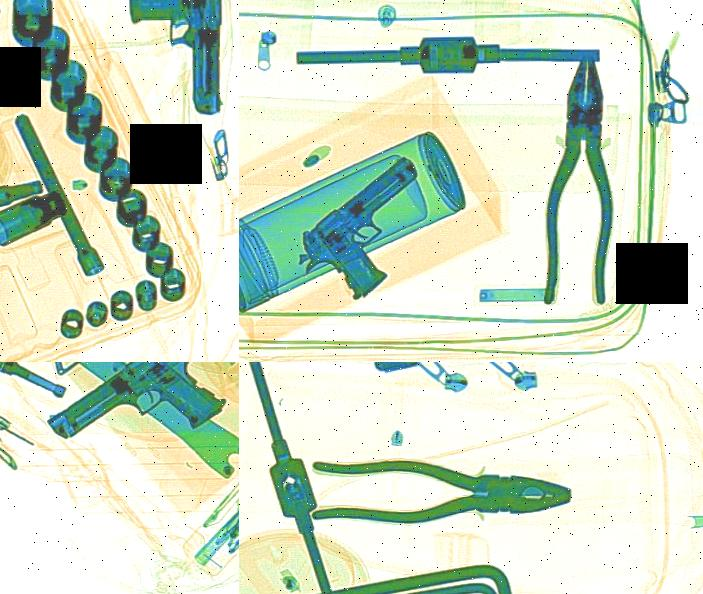Gun: (274, 149, 475, 307), (38, 362, 239, 491), (126, 0, 225, 115)
Pliers: (302, 450, 576, 534), (533, 53, 624, 305)
